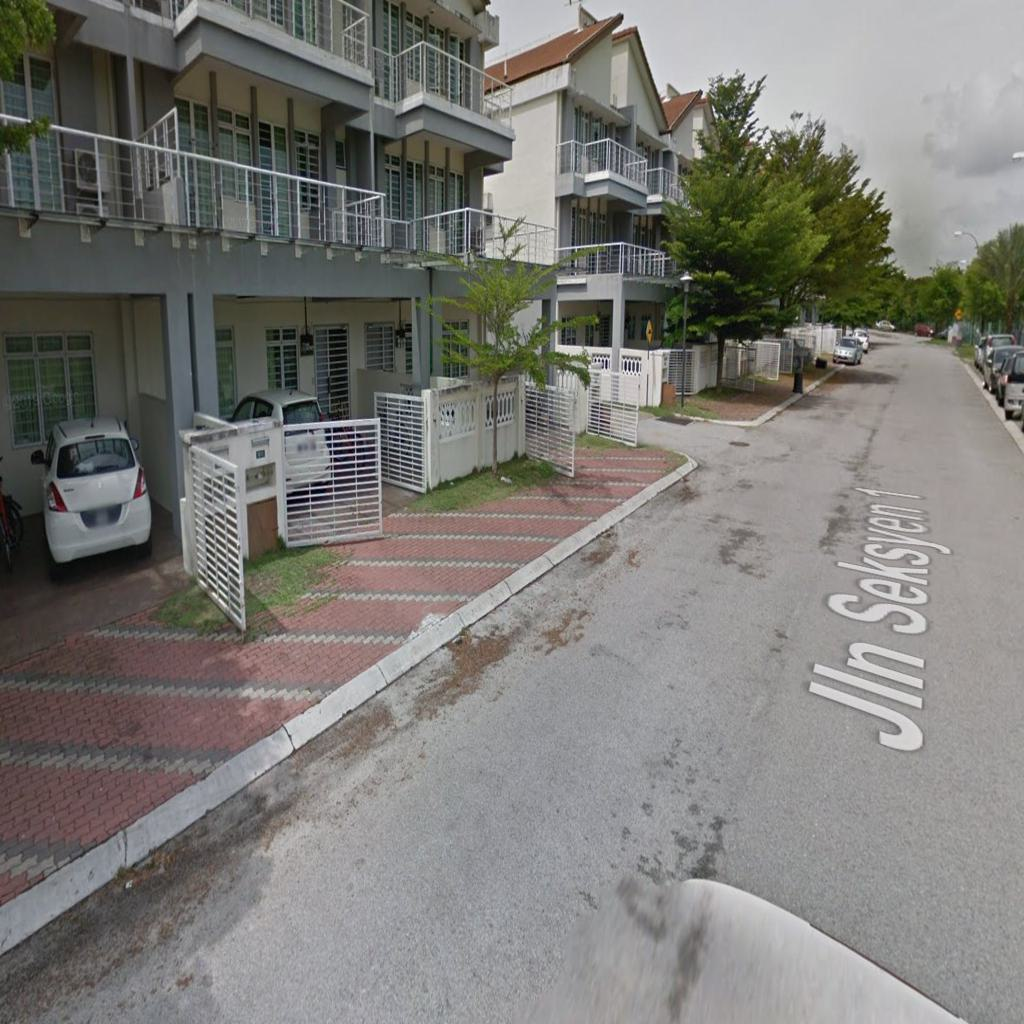Junction: (601, 382, 796, 503)
